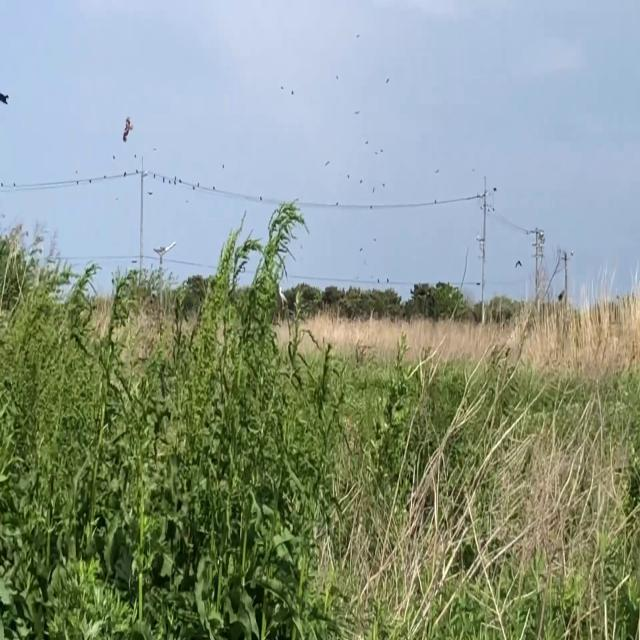bird: (122, 111, 132, 147), (0, 84, 9, 110), (515, 254, 522, 271)
